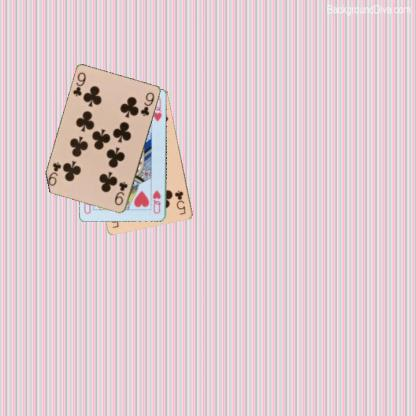5c: (172, 188, 187, 216)
9c: (70, 70, 88, 98), (112, 179, 129, 207)
Qh: (150, 188, 162, 215)
